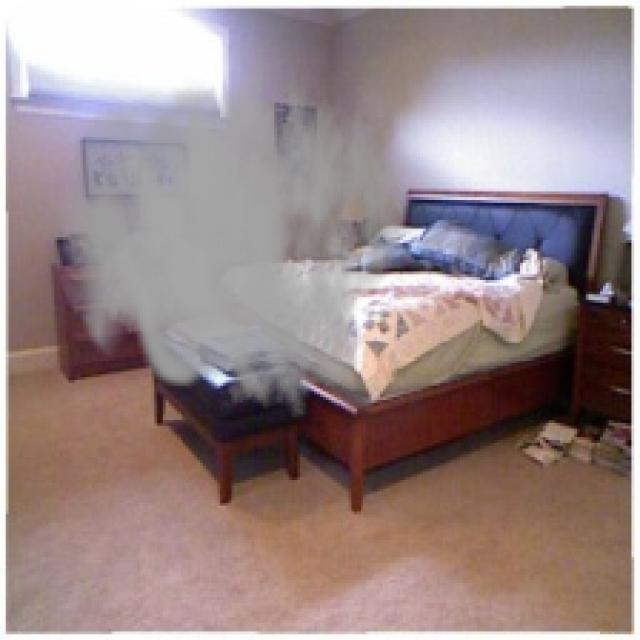Smoke: (57, 40, 403, 420)
